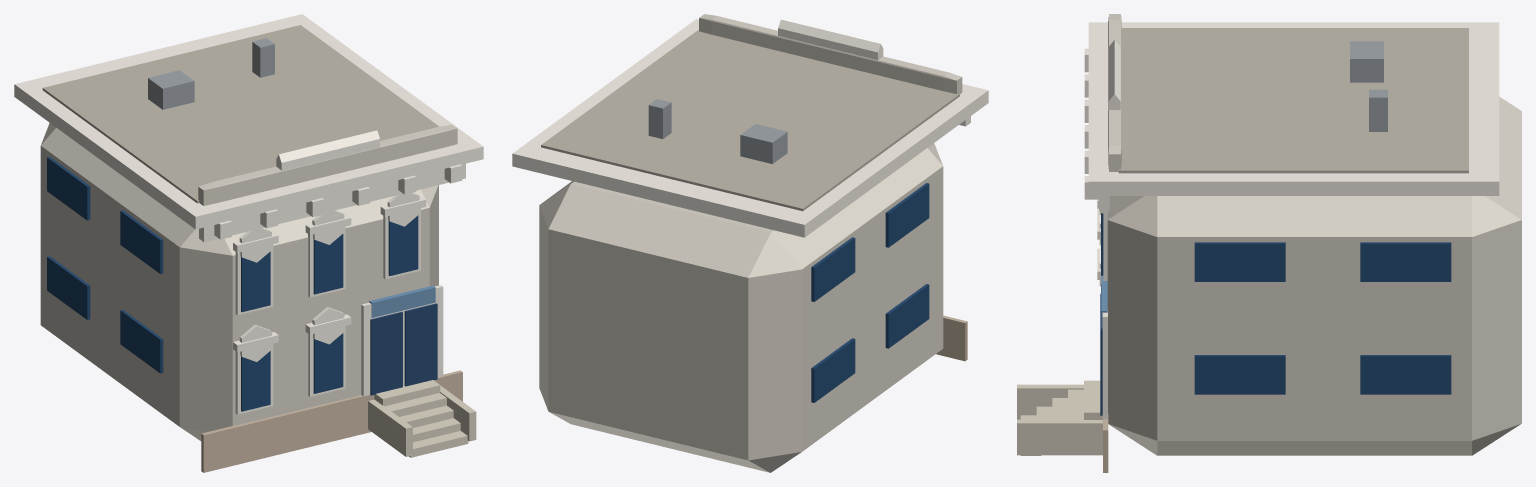
File: ital_w9_flat.glb
The picture shows the model from 3 angles, left to right: view 1: azimuth 30°, elevation 25°; view 2: azimuth 150°, elevation 25°; view 3: azimuth 270°, elevation 25°; orthographic projection. The views are drawn at different scales.
Visible parts, largest first — view 1: walls, roofslab, corn, bsmt, fparapet, frieze, door.001, door, dfr, sb.006, sb, sb.002 (+28 smaller); view 2: walls, roofslab, corn, fparapet, sb, sb.002, sb.006, sb.004, hvac, bsmt, roof, pcap (+1 smaller); view 3: walls, roofslab, corn, sb.001, sb.003, sb.005, sb.007, cheek.001, fparapet, hvac, cheek, pipe (+3 smaller).
Part boxes in pixels (x1,y1,x2,y2): walls: (40,123,438,440); roofslab: (42,25,438,203); corn: (14,14,483,229); bsmt: (201,370,462,472); fparapet: (198,124,457,205); frieze: (199,163,465,242); door.001: (404,303,437,386); door: (370,312,402,395); dfr: (361,285,443,396); sb.006: (47,157,90,220); sb: (120,310,163,373); sb.002: (47,256,90,319); walls: (539,143,943,472); roofslab: (541,30,959,211); corn: (512,19,988,237); fparapet: (699,14,962,93); sb: (885,284,929,348); sb.002: (811,338,855,402); sb.006: (811,237,855,301); sb.004: (885,183,929,247); hvac: (740,124,787,163); bsmt: (936,315,967,361); roof: (778,19,883,52); pcap: (778,28,883,59); walls: (1107,96,1521,455); roofslab: (1118,28,1468,173); corn: (1088,22,1499,195); sb.001: (1194,355,1285,394); sb.003: (1360,355,1451,394); sb.005: (1194,242,1285,281); sb.007: (1360,242,1451,281); cheek.001: (1017,419,1102,455); fparapet: (1108,14,1121,171); hvac: (1350,41,1383,82); cheek: (1017,384,1083,419); pipe: (1369,89,1387,131).
Size of the model in its own units: 10 by 9.85 by 13.4.
